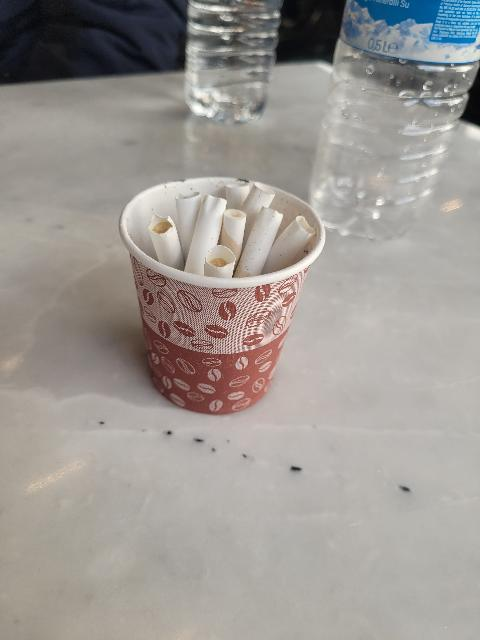Kagit: (120, 175, 324, 421)
Plastik: (310, 0, 480, 244)
